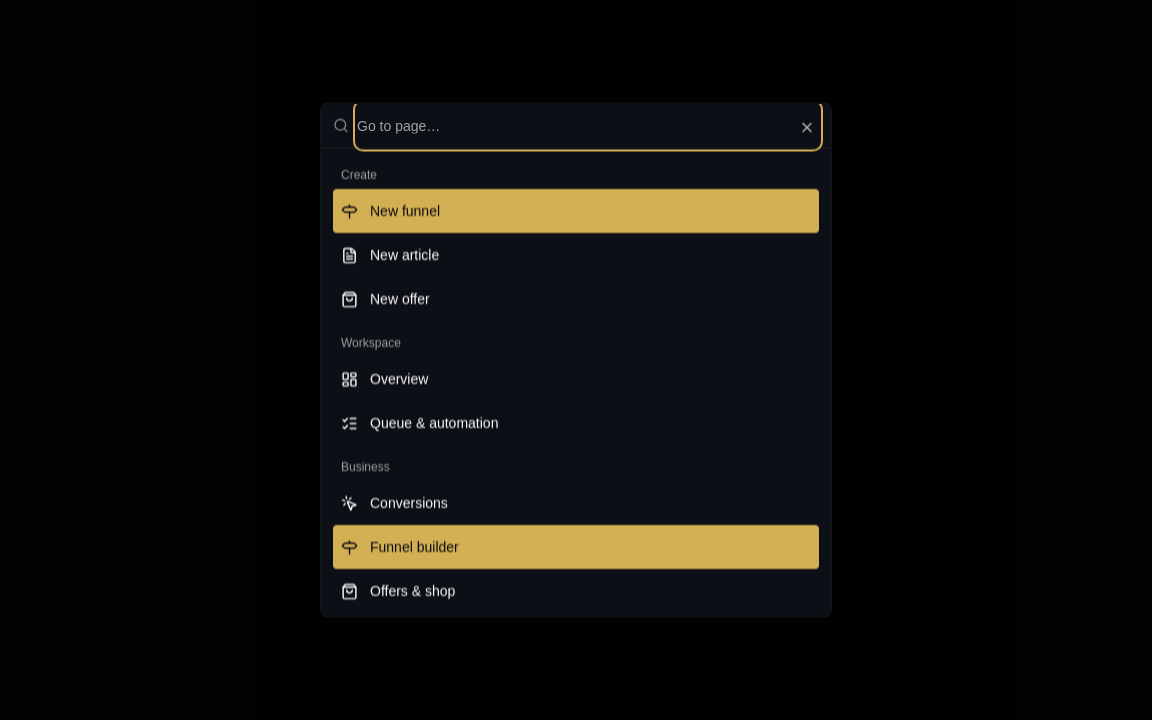
admin command navigation › Enter on seo opens the highlighted best match /admin/pseo-dashboard
Later steps or results of the test are not shown.
Type "seo" into the dropdown at coordinates (588, 126), box [357,104,819,148]
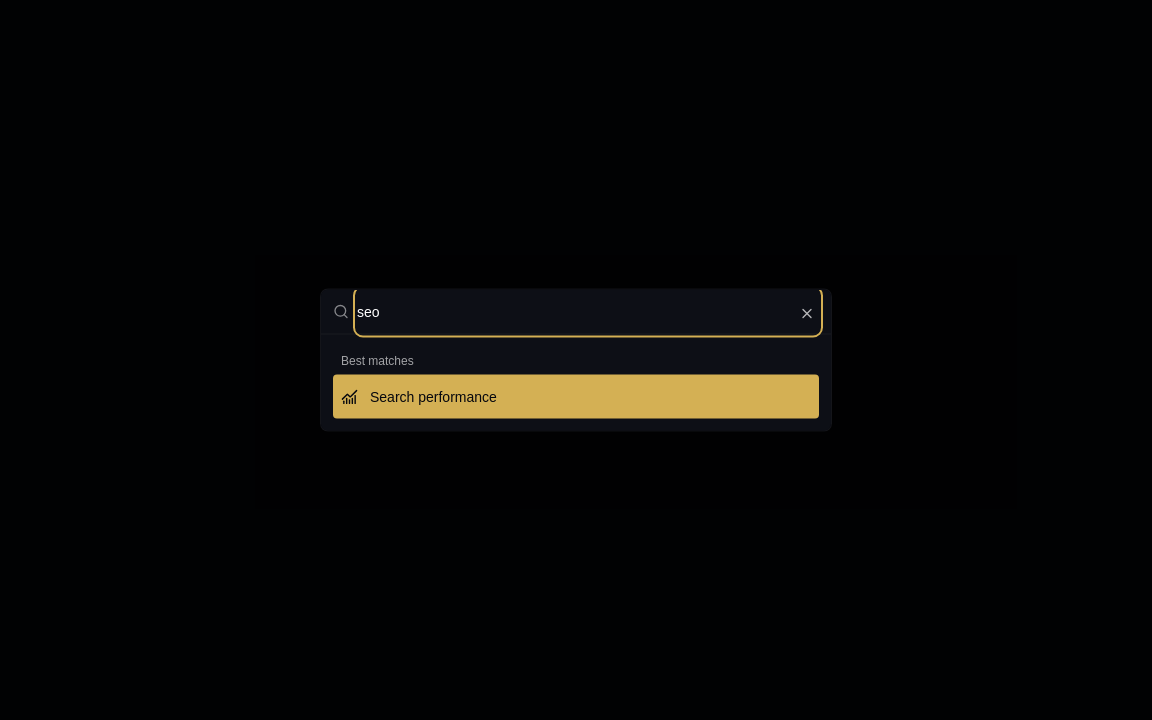
Now the option "Search performance" is shown, box [333,374,819,418]
